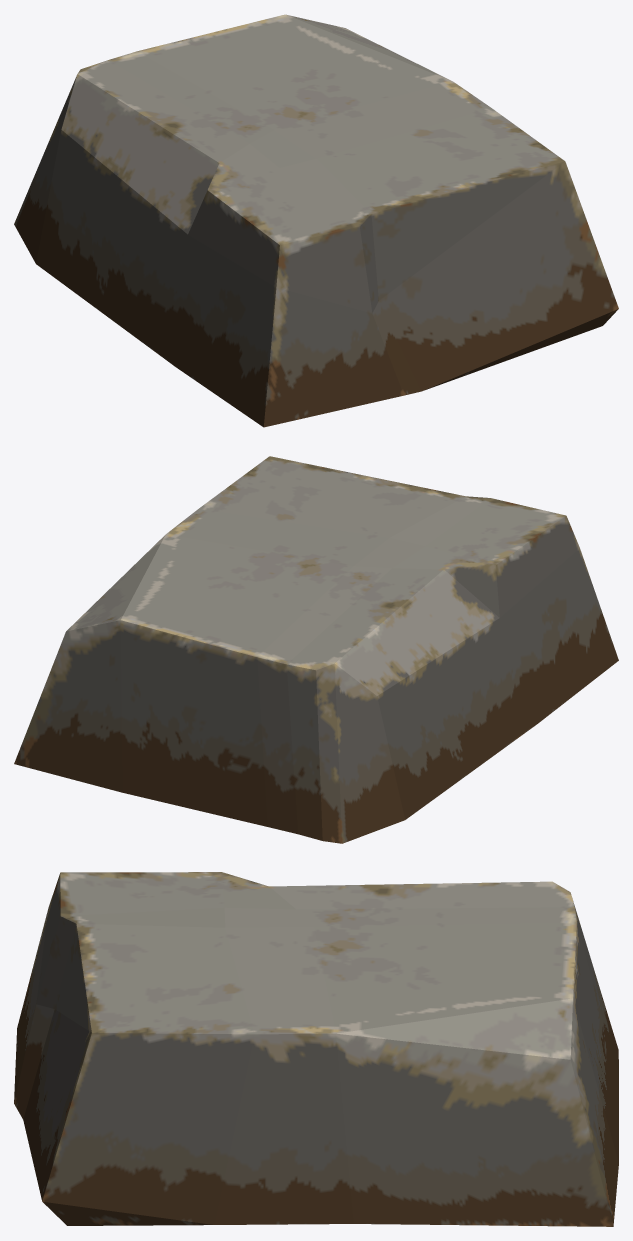
The model's file is Pebble_Square_5__go_coast.glb.
3 views of the same model, one above another, from view 1: azimuth 30°, elevation 25°; view 2: azimuth 150°, elevation 25°; view 3: azimuth 270°, elevation 25° (orthographic). The views are drawn at different scales.
Parts seen in each view (by area): view 1: Pebble_Square_5; view 2: Pebble_Square_5; view 3: Pebble_Square_5.
Part boxes in pixels (<box>): Pebble_Square_5: <box>14,14,618,427</box>; Pebble_Square_5: <box>14,456,618,843</box>; Pebble_Square_5: <box>14,872,618,1226</box>.
Size of the model in its own units: 0.352 by 0.1522 by 0.4504.
Materials: 1 (1 with a texture image).
